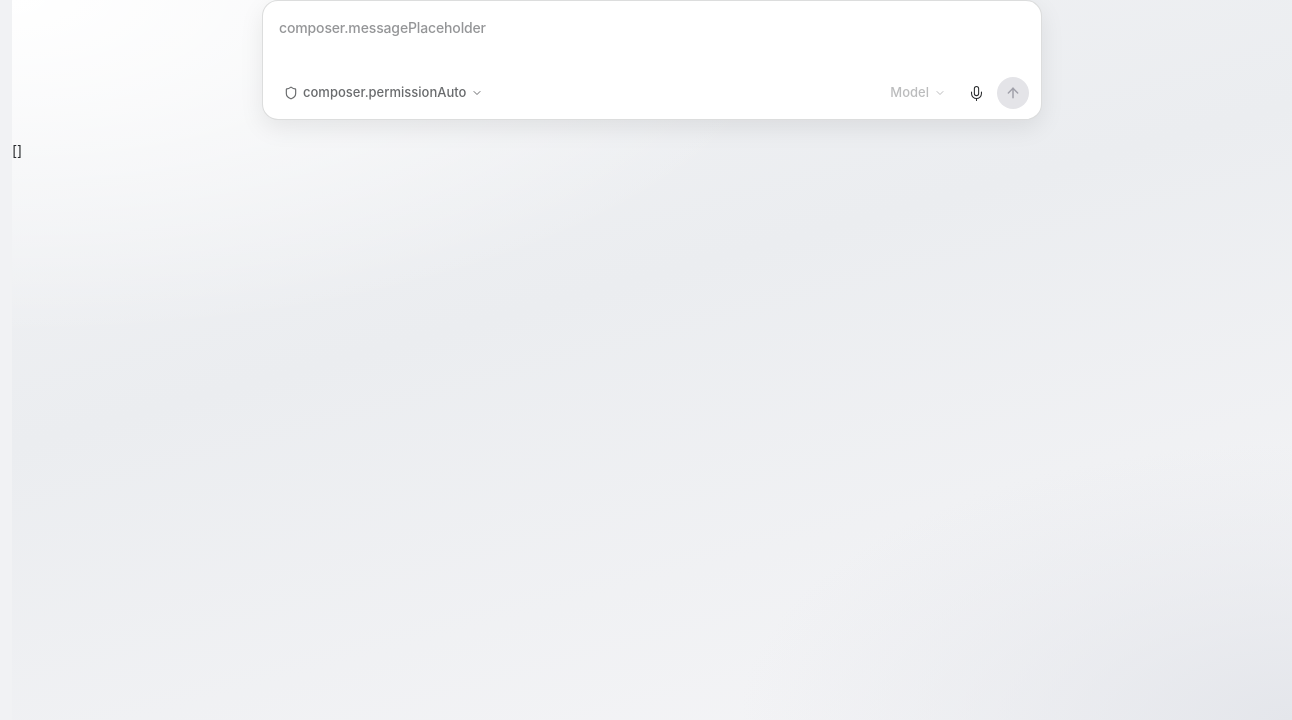
Test case: GUI /computer submission › activates Open Computer Use from the real composer submit path
Type "/computer inspect the screenshot and click the matching button" into the text box. click: [652, 41]
box: [275,13,1029,69]
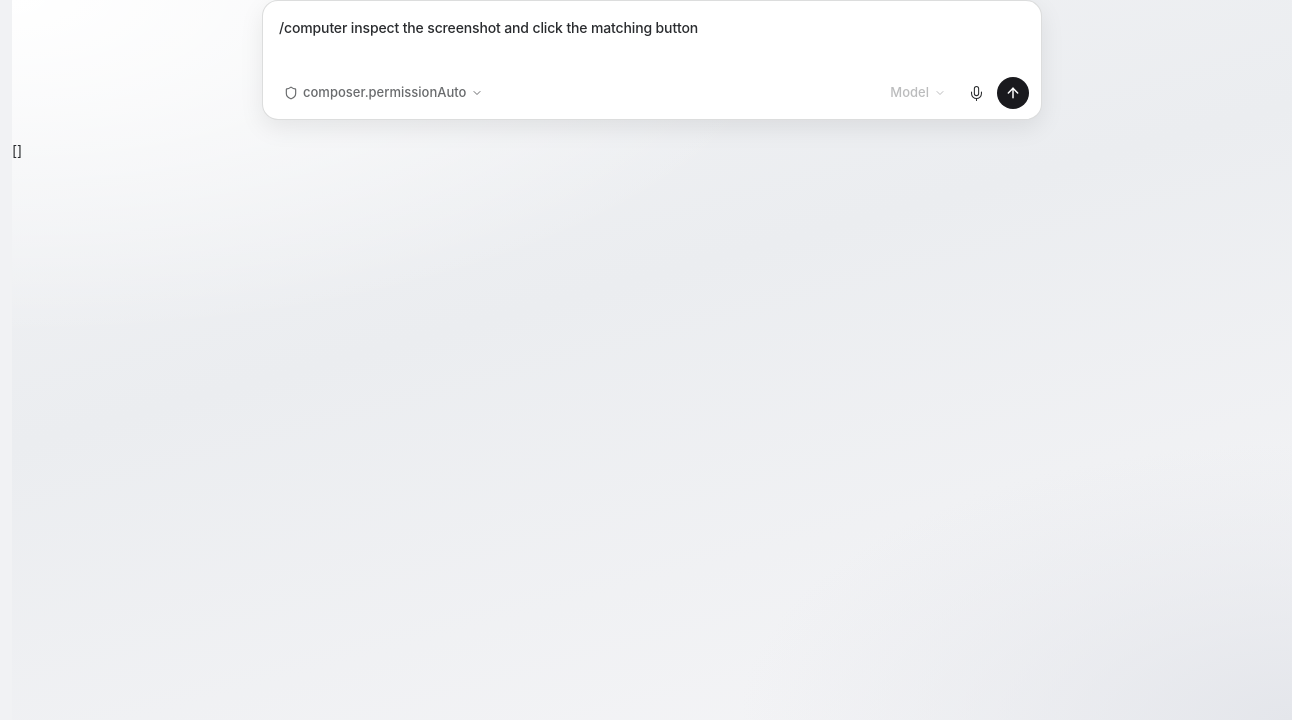
Press Enter in the text box, box [275,13,1029,69]
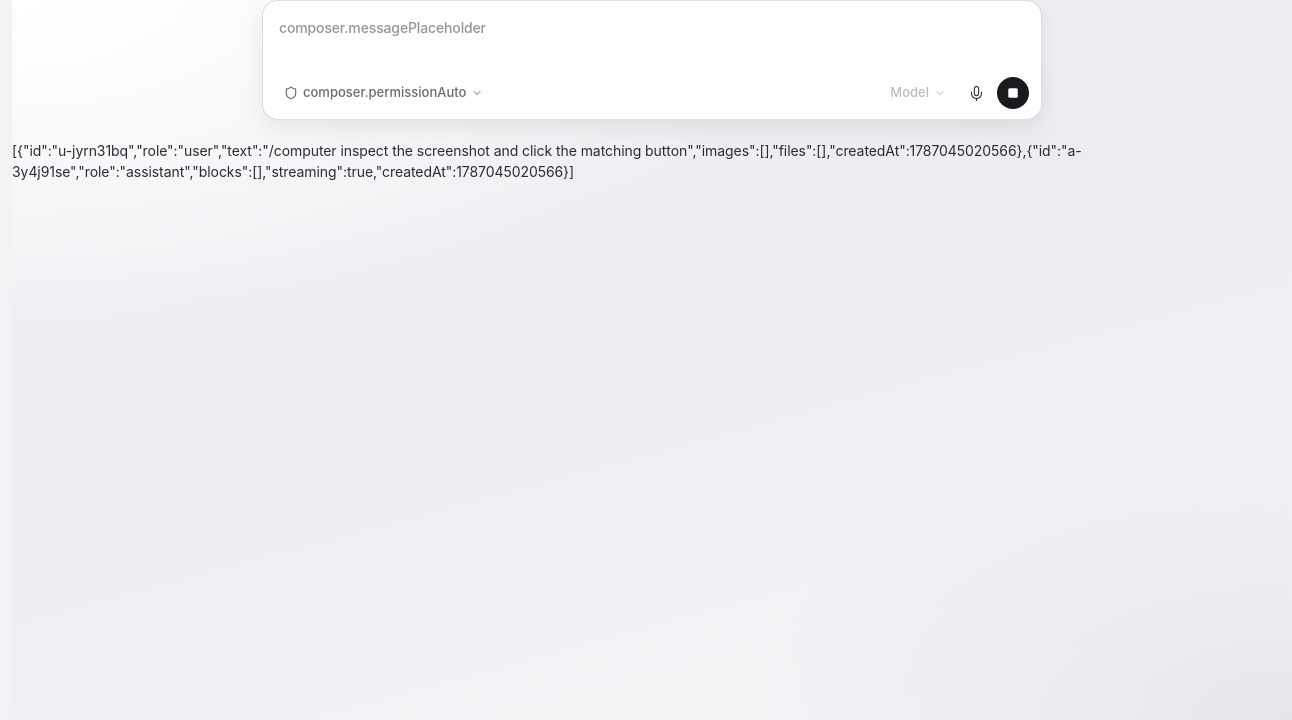
Result: the text with test id "messages" shows "/computer inspect the screenshot and click the matching button" at [12,142,1082,180]
